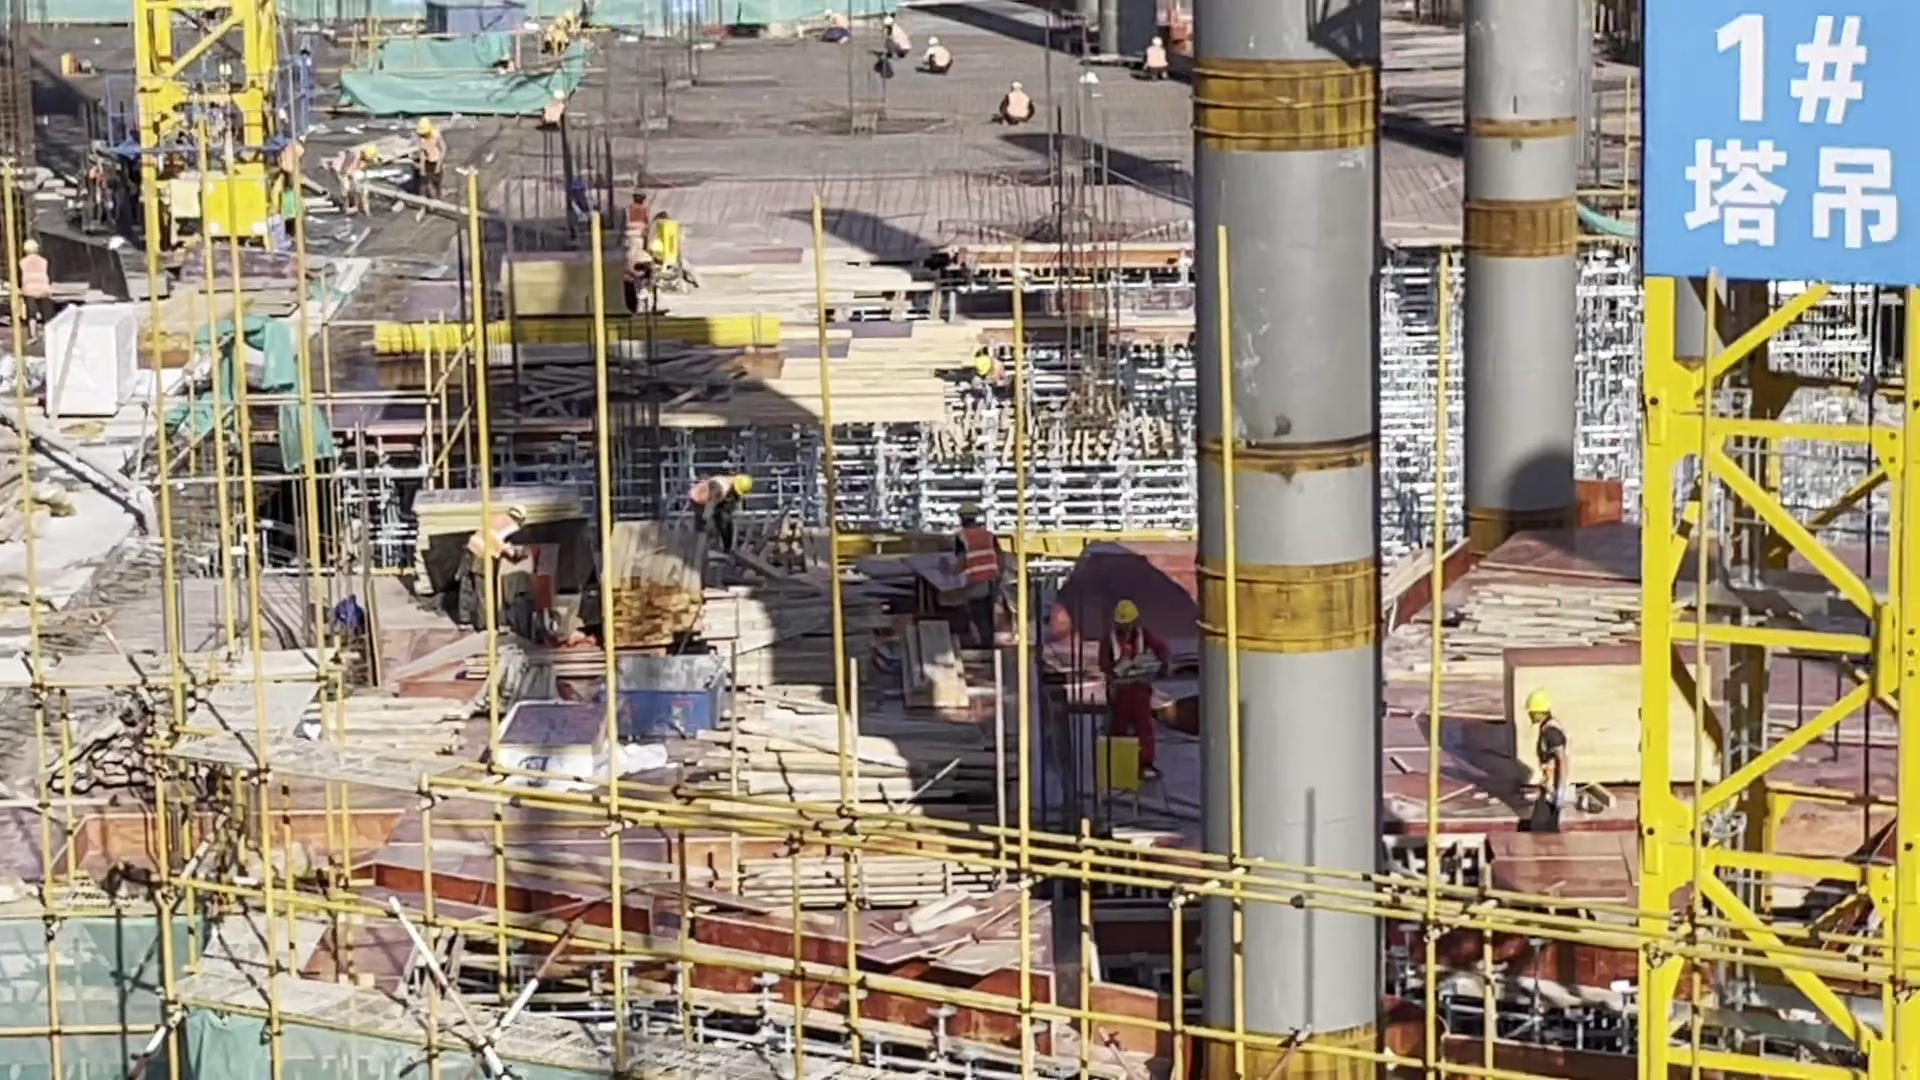board: (1498, 636, 1719, 795), (404, 484, 601, 595), (502, 249, 633, 329)
helmet: (1112, 598, 1141, 634), (504, 503, 531, 531), (974, 350, 997, 381), (361, 136, 382, 169), (954, 501, 980, 526), (731, 472, 756, 495), (417, 118, 433, 138), (1006, 79, 1027, 92), (927, 33, 941, 44), (883, 15, 895, 26)
hopper: (605, 646, 733, 744)
person: (1093, 584, 1166, 791), (442, 497, 530, 640), (1516, 686, 1583, 851), (948, 501, 1008, 656), (691, 465, 752, 552), (981, 68, 1045, 147), (20, 237, 58, 352), (412, 111, 451, 219), (334, 138, 379, 234), (966, 343, 1019, 422), (263, 134, 308, 206), (531, 86, 579, 144), (918, 33, 962, 86), (622, 184, 655, 252), (879, 9, 909, 79), (808, 2, 850, 49), (1145, 38, 1175, 90)
slogan: (1634, 1, 1909, 281)
vest: (467, 508, 517, 573), (1533, 726, 1573, 804), (958, 529, 1007, 584), (1113, 627, 1153, 679), (691, 472, 734, 520), (623, 199, 653, 249), (22, 257, 53, 305), (414, 134, 443, 170), (1004, 89, 1031, 120)
wood: (744, 694, 1026, 820), (616, 520, 697, 657), (884, 621, 973, 720)
